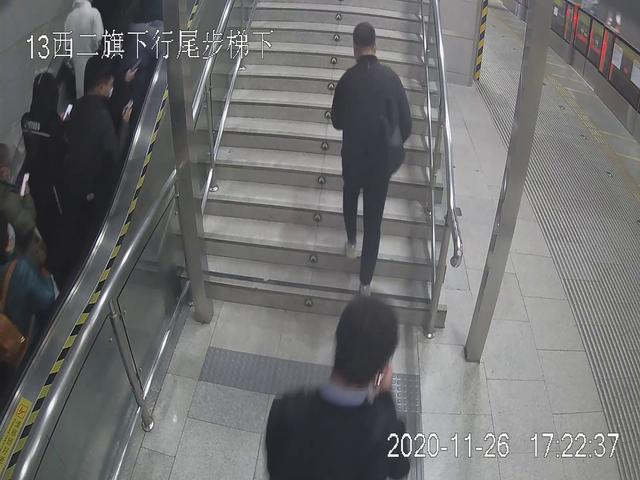person: (268, 290, 420, 480), (331, 21, 412, 293), (64, 60, 139, 209)
